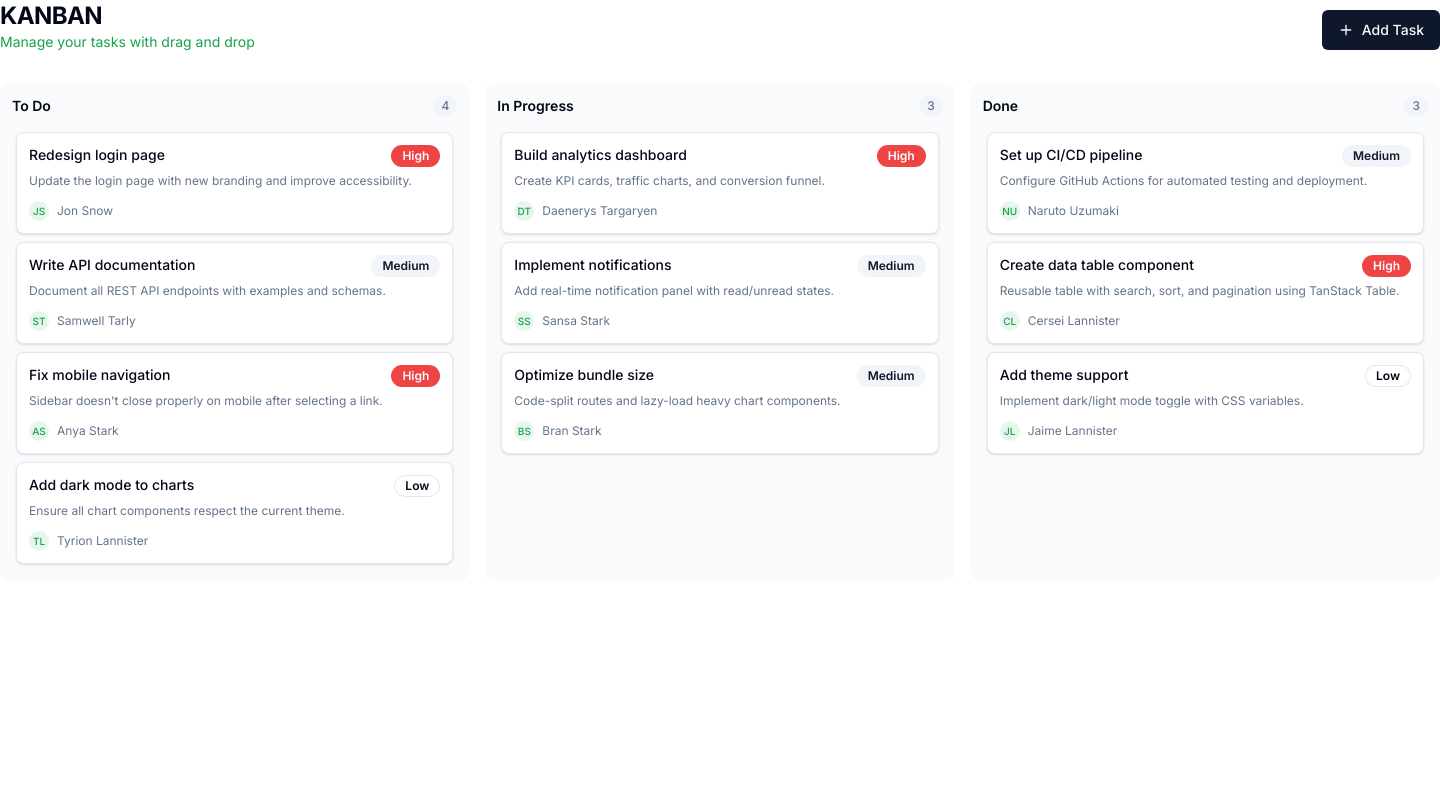
Test: KanbanPage › creates a task from the Enter key
Click the button "Add Task" at (1381, 30), box top-left (1322, 10), bottom-right (1439, 50)
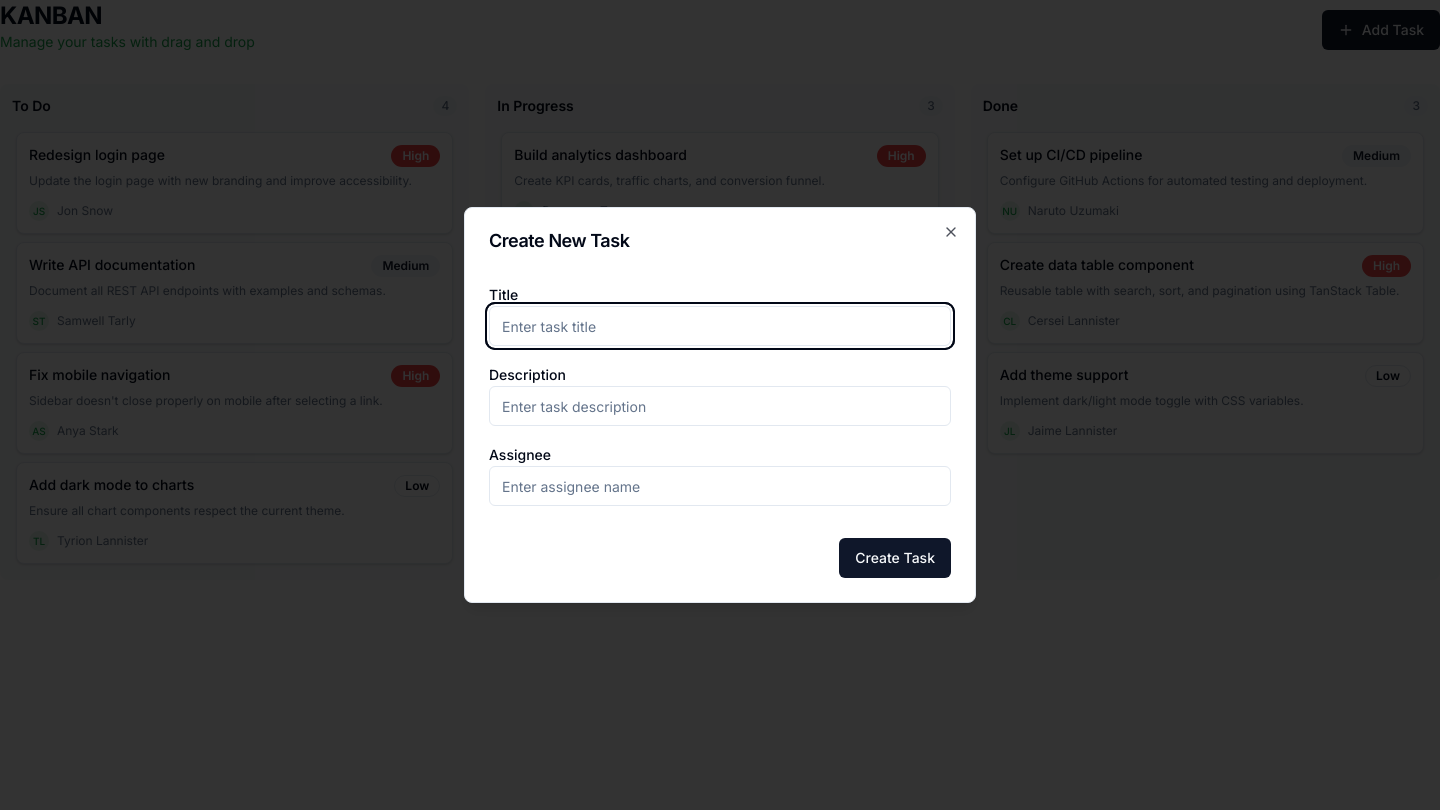
Type "Review PR" into the field labelled "Title" at (720, 326), box top-left (489, 306), bottom-right (951, 346)
Then press Enter
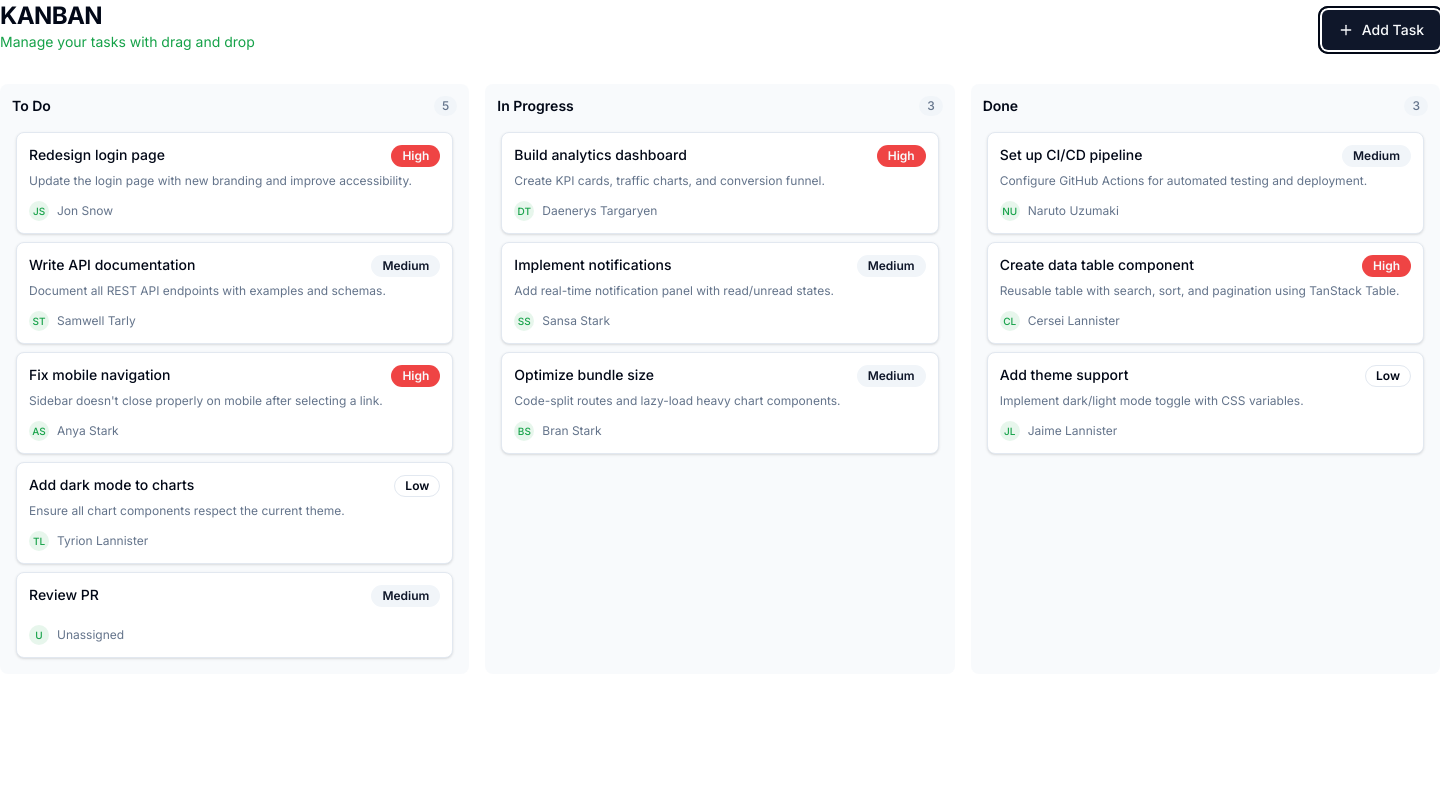
Now the heading "Create New Task" is gone
Now the heading "Review PR" is shown, box top-left (29, 585), bottom-right (99, 604)
